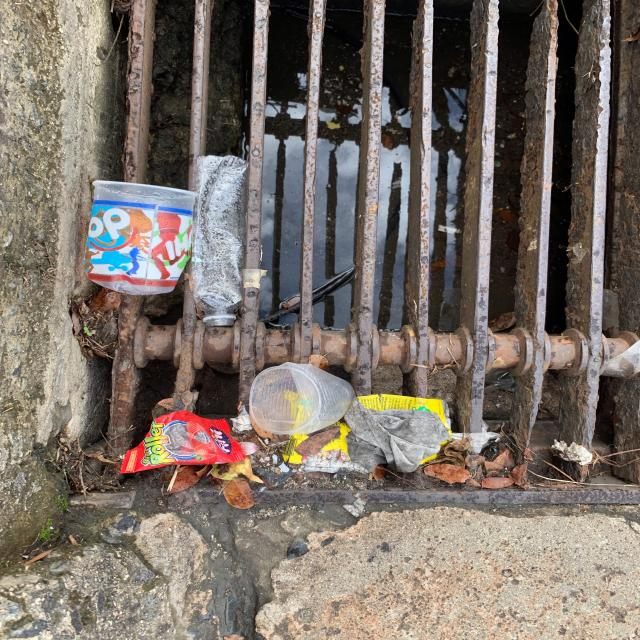litter: (282, 389, 452, 474), (83, 180, 197, 295), (191, 155, 248, 327), (342, 396, 450, 472), (119, 409, 247, 473), (250, 361, 356, 435)
